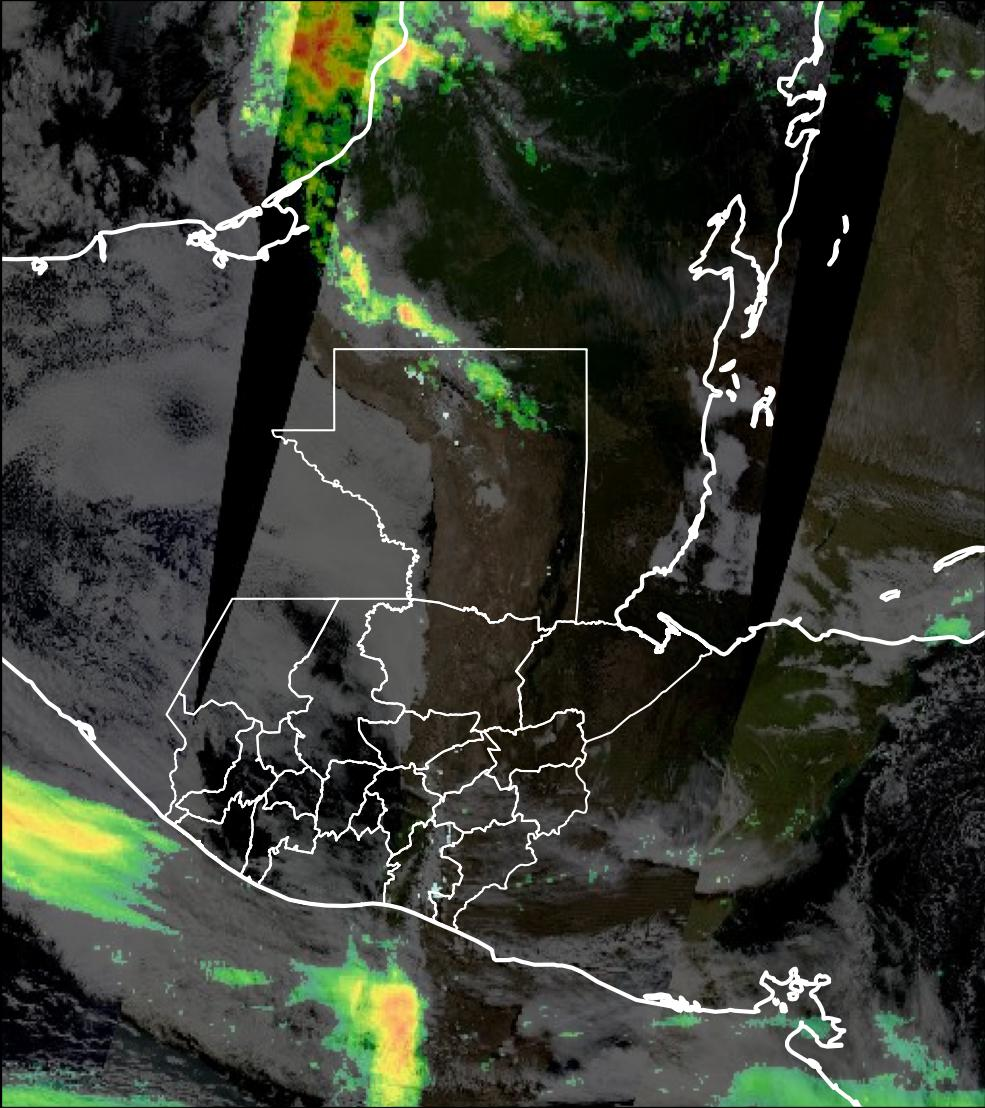precipitacion: (240, 2, 384, 118), (343, 954, 438, 1100)
